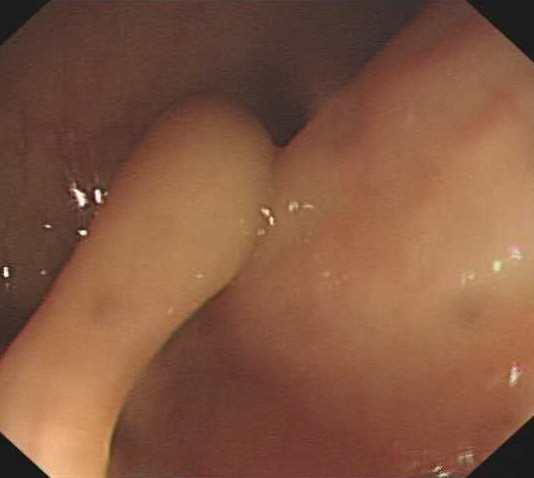others: (83, 90, 272, 321)
